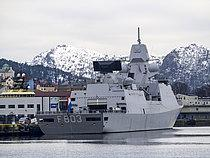MIL_Ship: (34, 25, 185, 134)
